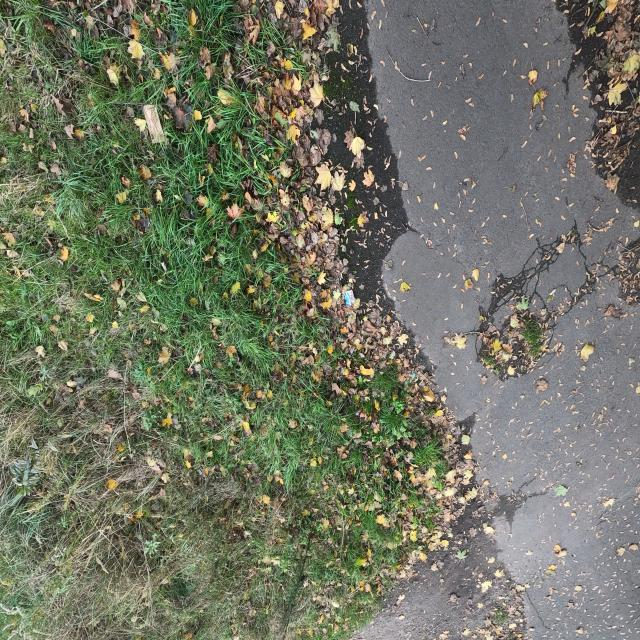rubbish: (473, 496, 499, 536), (283, 332, 298, 352)
